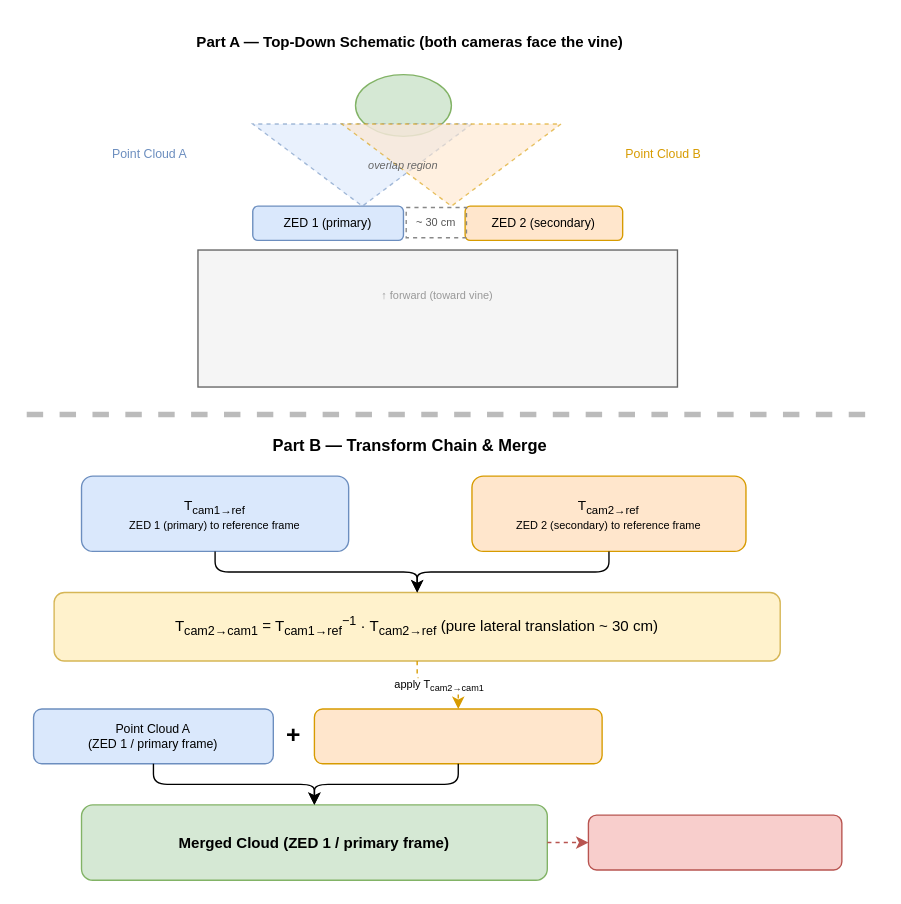
This 901x904 diagram has some shape labels left out. The shapes that lost their labels are listed below. From the top down, each one's box as (x1, y1, x2, y2) in pixels, then its label:
(354, 73, 451, 136): Vine Trunk
(197, 249, 677, 387): Robot Platform
(313, 708, 602, 764): Point Cloud B transformed by T cam2→cam1
(587, 814, 842, 870): High overlap enables consistency-based outlier rejection
